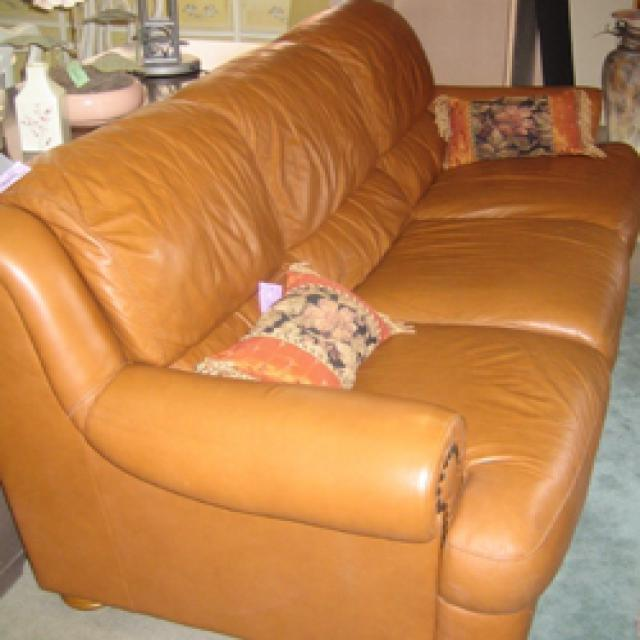Vase: (10, 61, 67, 150)
arm: (77, 359, 468, 541)
cushion occluded: (192, 260, 412, 386)
lamp crop: (131, 2, 195, 72)
sofa bed: (3, 0, 635, 638)
sofa occluded: (335, 218, 630, 362)
throw pillow: (433, 88, 607, 171)
